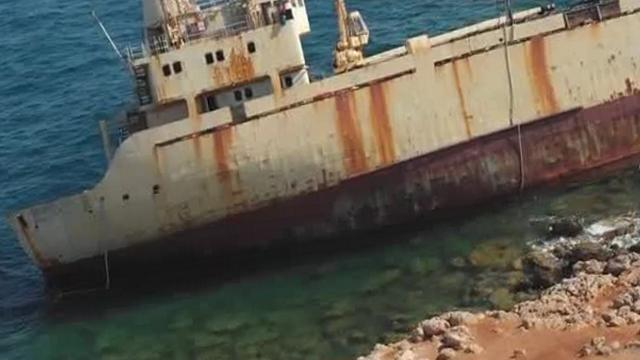rust: (188, 40, 277, 215), (330, 82, 408, 225), (503, 25, 582, 154), (443, 41, 491, 160), (16, 212, 64, 291)
